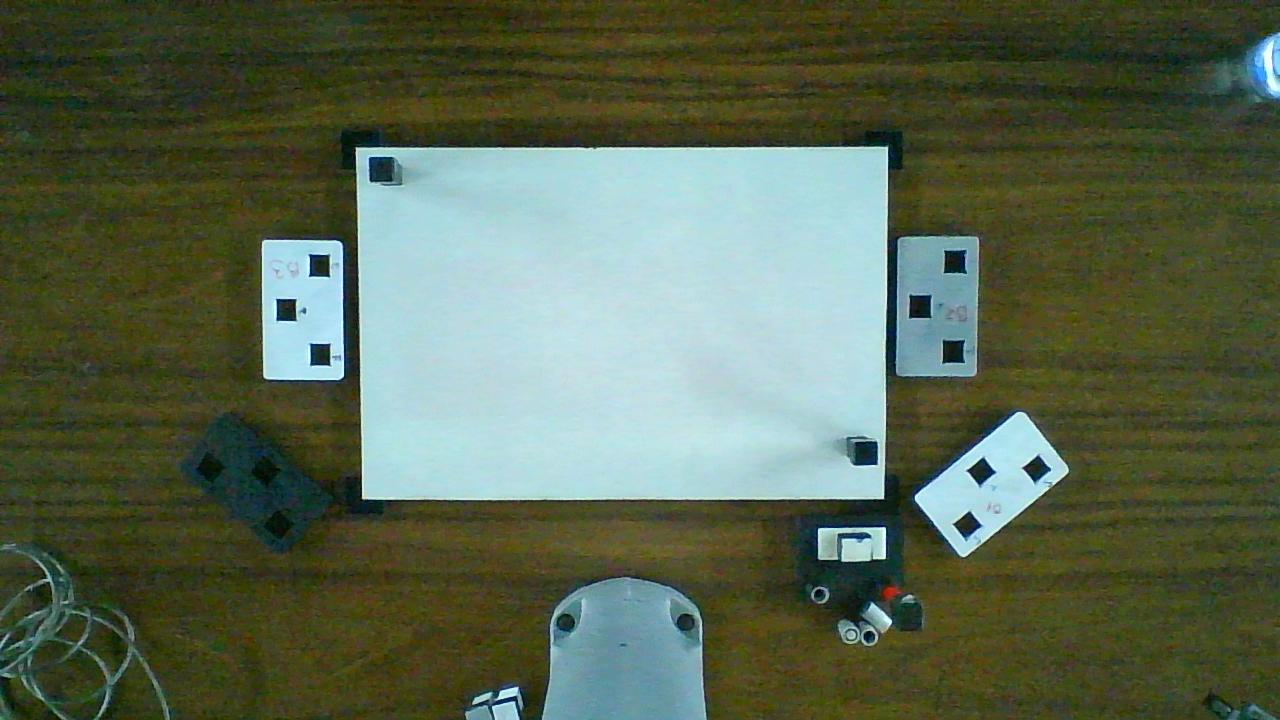peca_preta: (369, 157, 392, 180), (854, 441, 876, 465)
